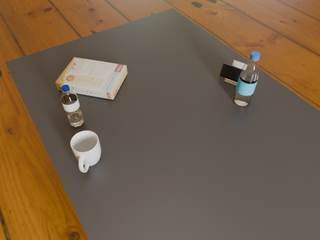bottle: (233, 52, 260, 106), (61, 84, 84, 127)
box: (56, 57, 127, 99)
cup: (71, 131, 101, 172)
phone: (220, 63, 241, 82)
